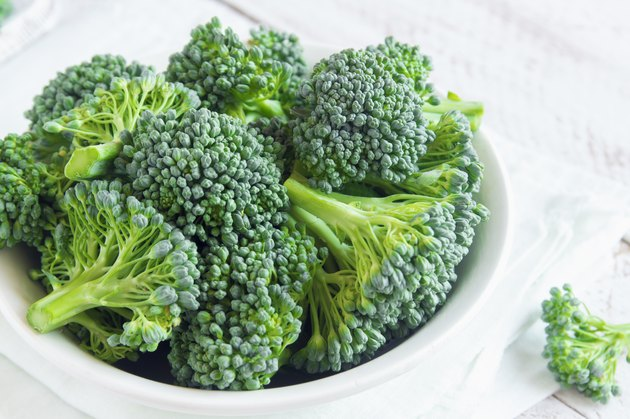Broccoli: (256, 167, 522, 330), (98, 96, 301, 289), (37, 188, 201, 354), (5, 55, 203, 188), (269, 47, 437, 192), (166, 25, 304, 126)
